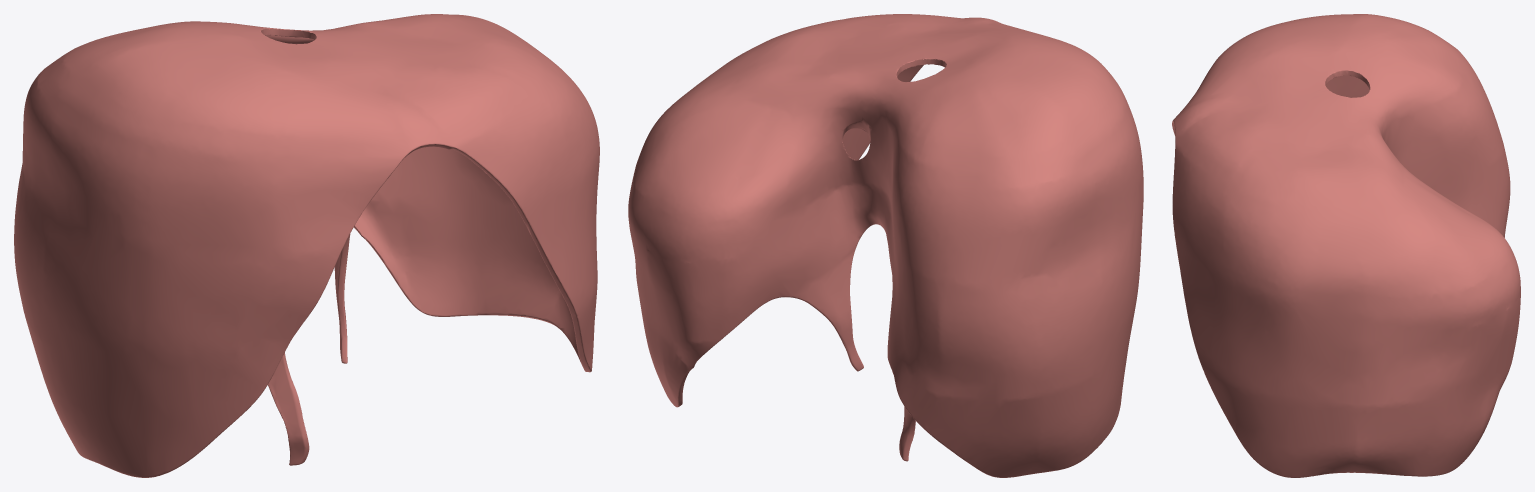
File: muscles-04.glb
3 renders of one model, left to right at view 1: azimuth 30°, elevation 25°; view 2: azimuth 150°, elevation 25°; view 3: azimuth 270°, elevation 25°, orthographic. The views are drawn at different scales.
Parts seen in each view (by area): view 1: FMA13295_FJ3131; view 2: FMA13295_FJ3131; view 3: FMA13295_FJ3131.
Part boxes in pixels (x1=…): FMA13295_FJ3131: x1=14, y1=14, x2=599, y2=477; FMA13295_FJ3131: x1=628, y1=14, x2=1143, y2=477; FMA13295_FJ3131: x1=1172, y1=14, x2=1520, y2=477.
Bounding box in the file's own units: 0.2432 × 0.2067 × 0.1794.
